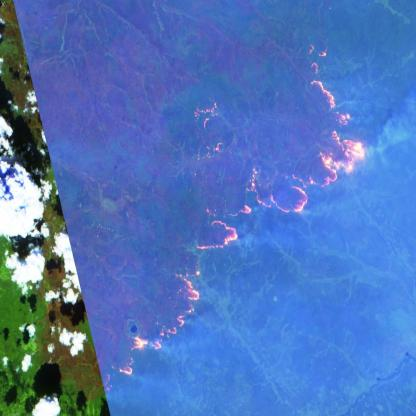fire: (95, 36, 372, 396)
